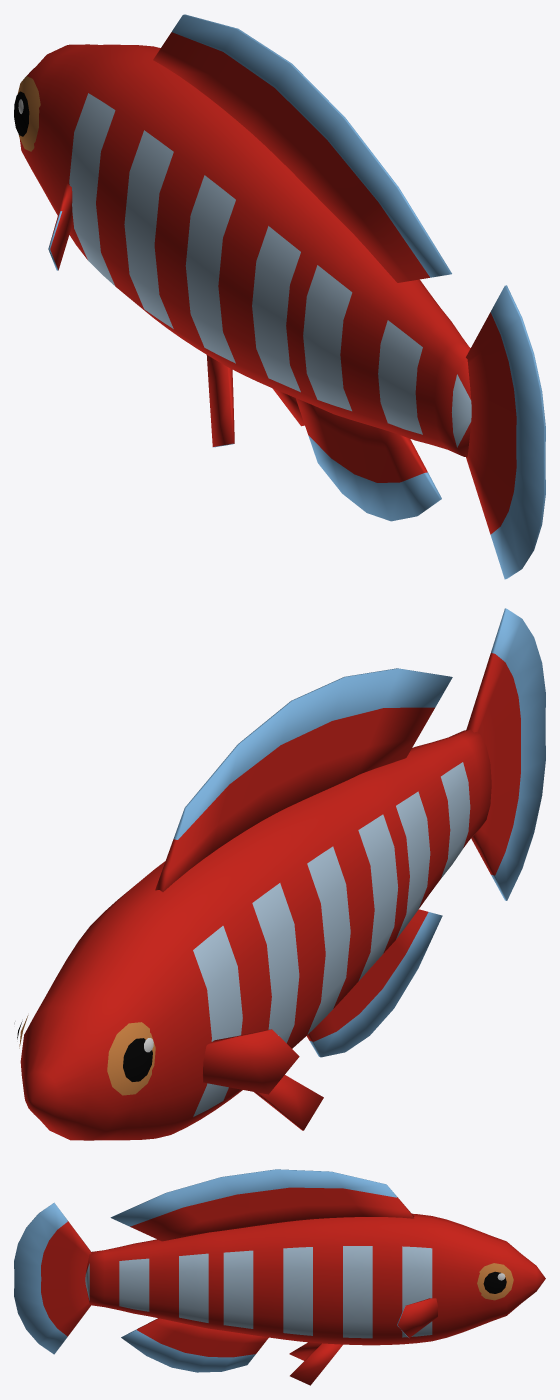
The model's file is scarlet_badis.glb.
3 views of the same model, one above another, from view 1: azimuth 30°, elevation 25°; view 2: azimuth 150°, elevation 25°; view 3: azimuth 270°, elevation 25° (orthographic). The views are drawn at different scales.
Visible parts, largest first — view 1: scarlet_badis; view 2: scarlet_badis; view 3: scarlet_badis.
Boxes of the visible parts, x1=… form: scarlet_badis: x1=14, y1=14, x2=545, y2=579; scarlet_badis: x1=14, y1=608, x2=545, y2=1140; scarlet_badis: x1=14, y1=1169, x2=545, y2=1385.
Size of the model in its own units: 0.567 by 0.8606 by 2.02.
